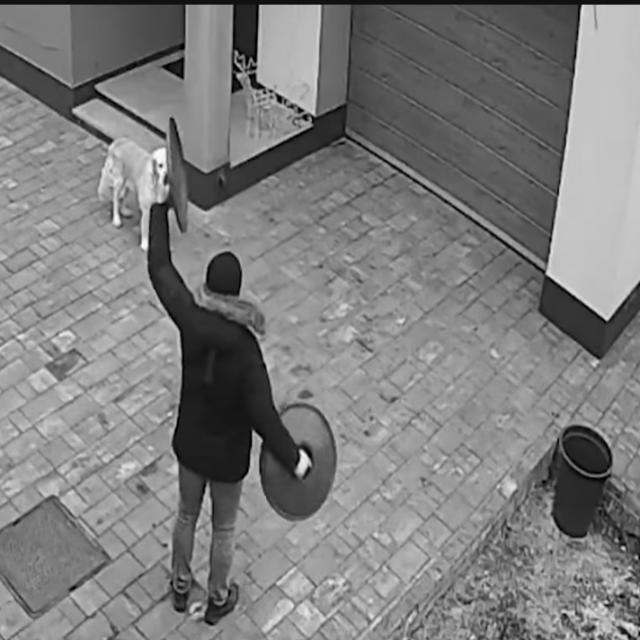Invader: (143, 152, 314, 624)
